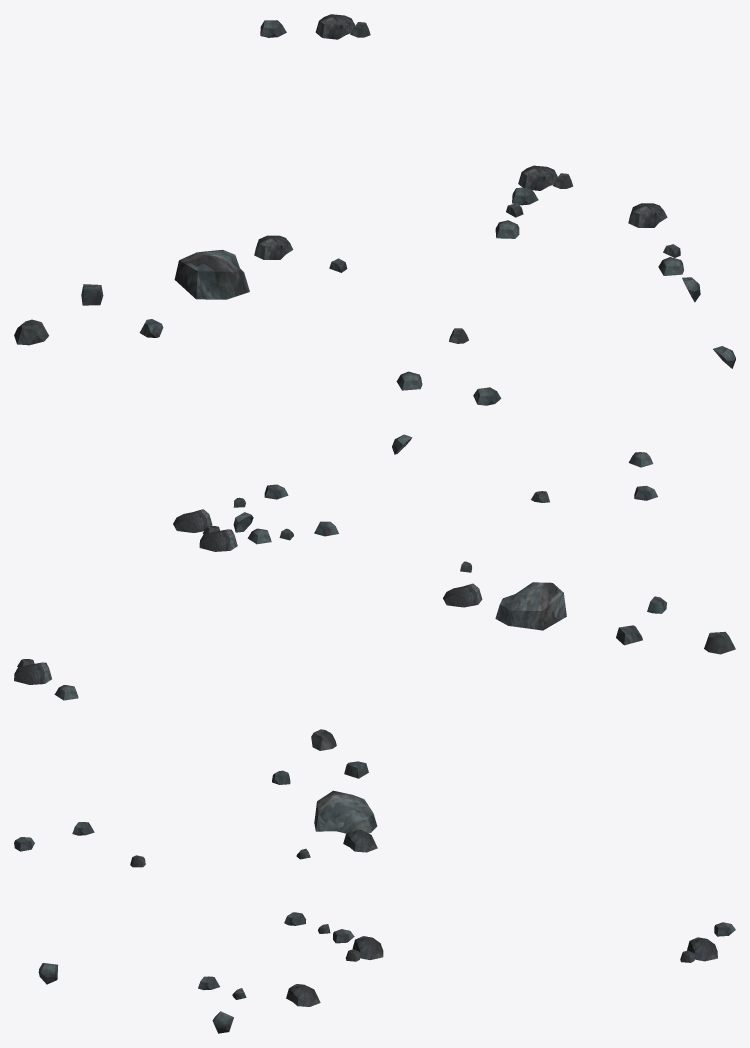
The model's file is menu_town_rubble_02.fbx.
The picture shows the model from 3 angles, top to bottom: view 1: azimuth 30°, elevation 25°; view 2: azimuth 150°, elevation 25°; view 3: azimuth 270°, elevation 25°; orthographic projection. The views are drawn at different scales.
Parts seen in each view (by area): view 1: Material_#238683587/cliffside; view 2: Material_#238683587/cliffside; view 3: Material_#238683587/cliffside.
Part boxes in pixels (box(x1,y1,x2,y2)): Material_#238683587/cliffside: box(14, 14, 735, 405); Material_#238683587/cliffside: box(14, 434, 735, 700); Material_#238683587/cliffside: box(14, 729, 735, 1033).
Bounding box in the file's own units: 12.36 × 1.77 × 14.87.
